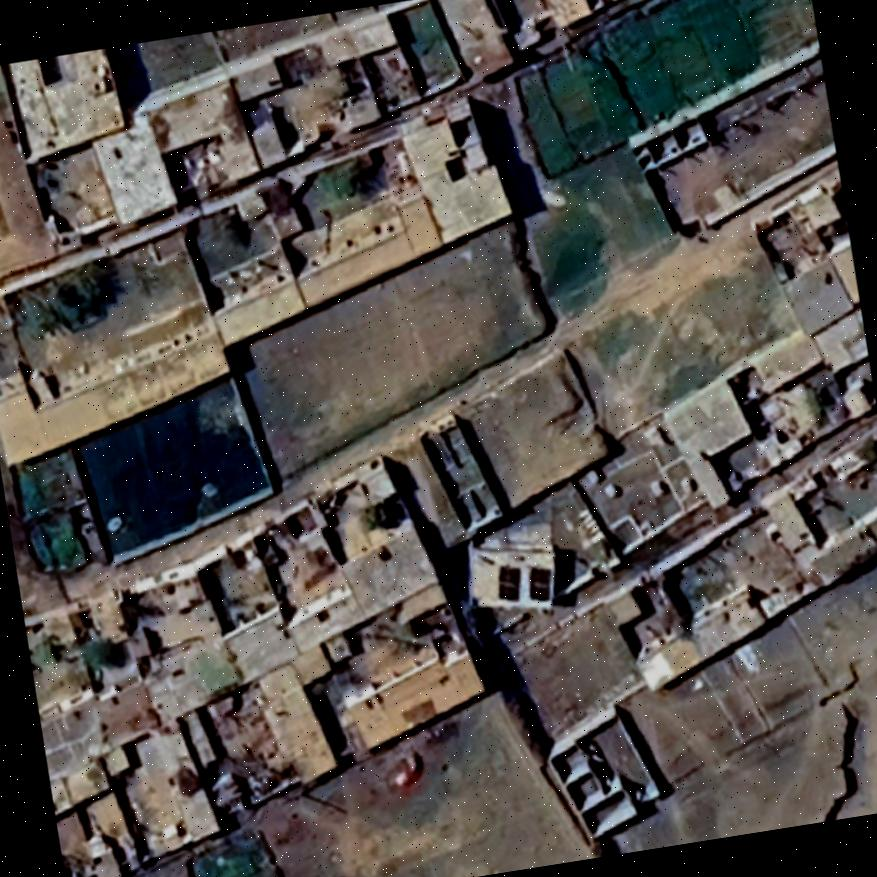Solarpanel: (490, 558, 529, 607), (521, 560, 559, 610)
